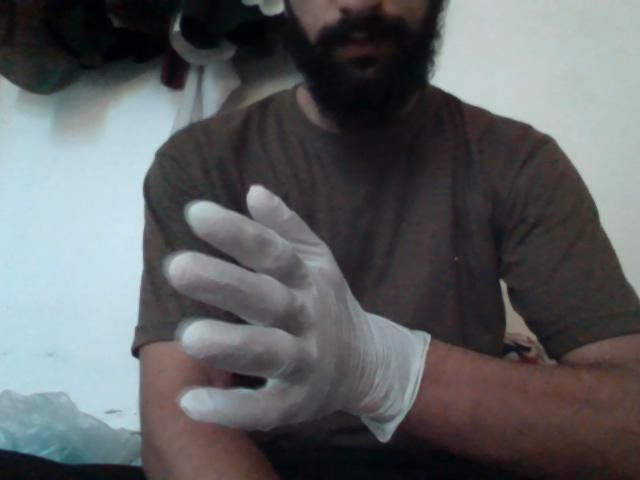gloves: (156, 177, 449, 449)
